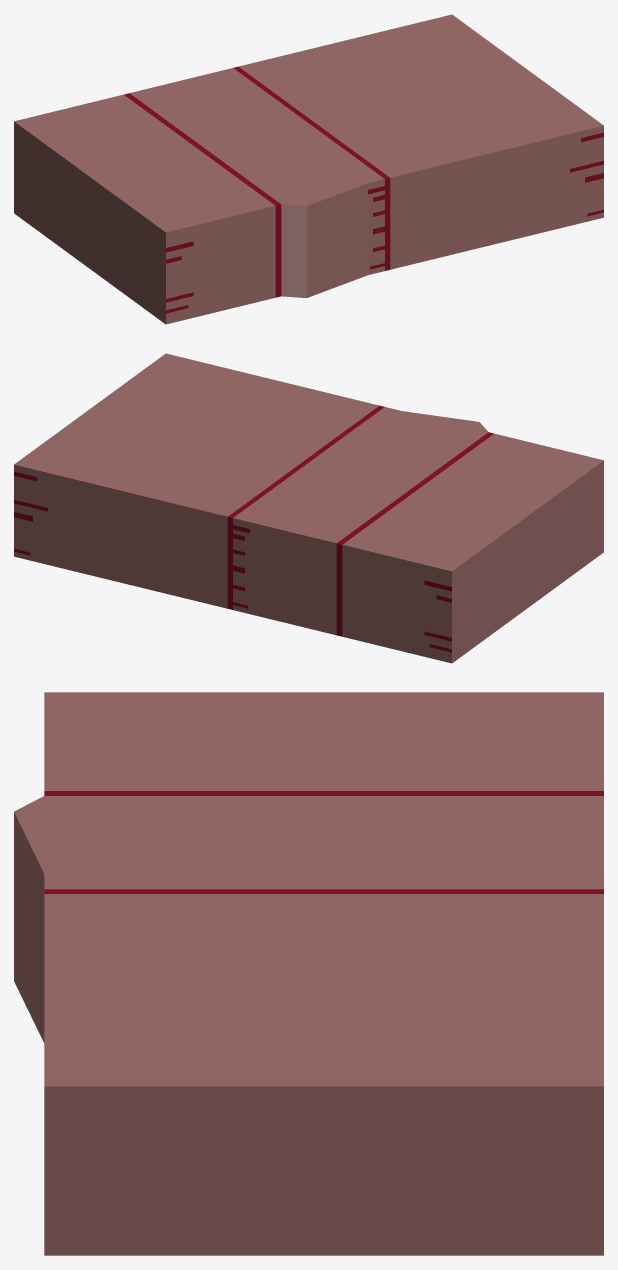
File: cetvellialt.fbx
3 views of the same model, one above another, from view 1: azimuth 30°, elevation 25°; view 2: azimuth 150°, elevation 25°; view 3: azimuth 270°, elevation 25° (orthographic). The views are drawn at different scales.
Parts seen in each view (by area): view 1: Plane.006; view 2: Plane.006; view 3: Plane.006.
Boxes of the visible parts, x1=… form: Plane.006: x1=14, y1=14, x2=603, y2=324; Plane.006: x1=14, y1=353, x2=603, y2=663; Plane.006: x1=14, y1=692, x2=603, y2=1255.
Size of the model in its own units: 345 by 69.32 by 219.
